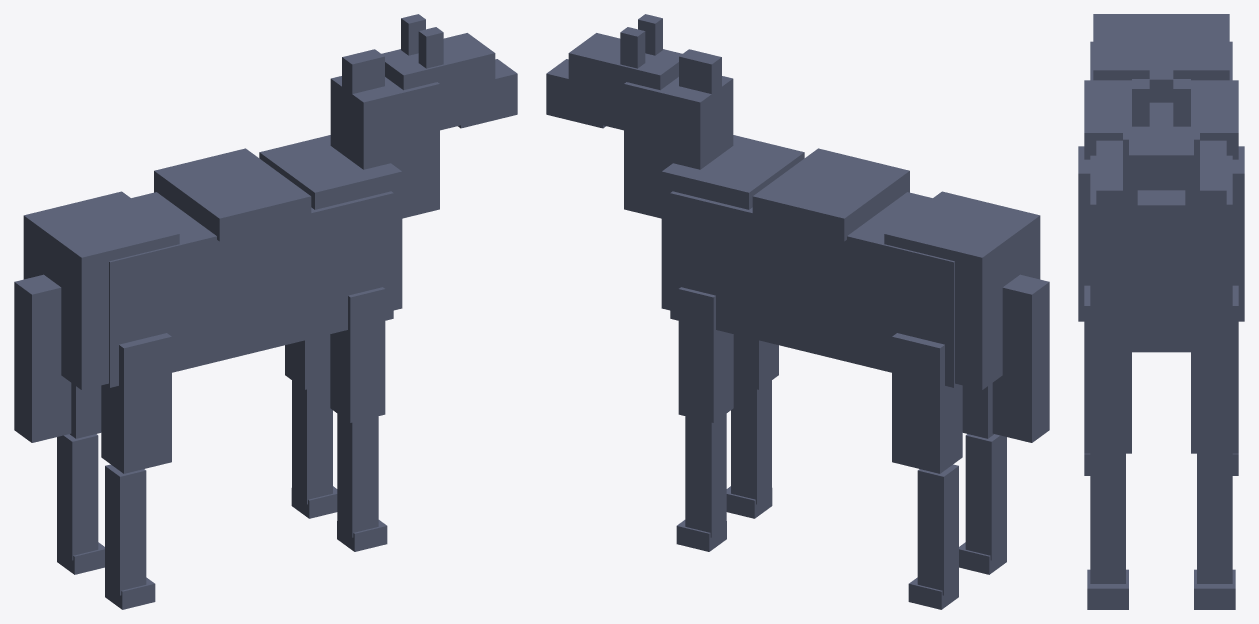
The model's file is Horse_20.glb.
3 views of the same model, side by side, from view 1: azimuth 30°, elevation 25°; view 2: azimuth 150°, elevation 25°; view 3: azimuth 270°, elevation 25° (orthographic). The views are drawn at different scales.
Visible parts, largest first — view 1: Horse_20; view 2: Horse_20; view 3: Horse_20.
Part boxes in pixels (bbox=[...]): Horse_20: bbox=[14, 14, 517, 609]; Horse_20: bbox=[546, 14, 1049, 609]; Horse_20: bbox=[1078, 14, 1244, 609].
Bounding box in the file's own units: 2.22 × 2.1 × 0.56.
